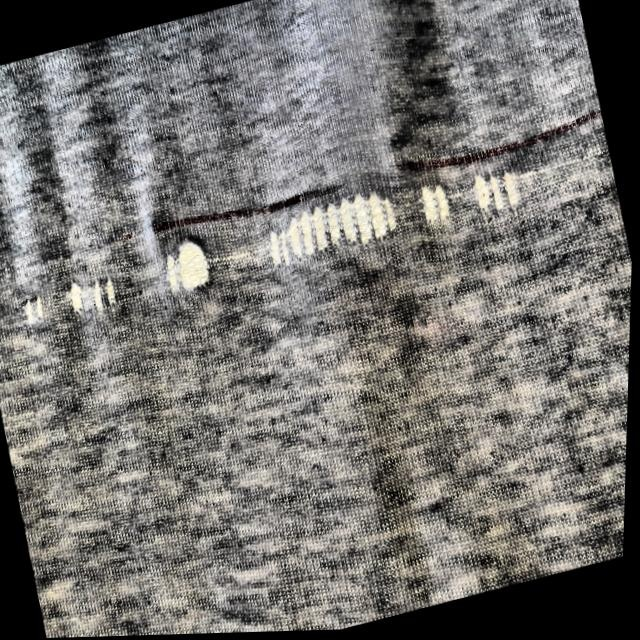Hole: (10, 293, 52, 339), (53, 273, 90, 319)
